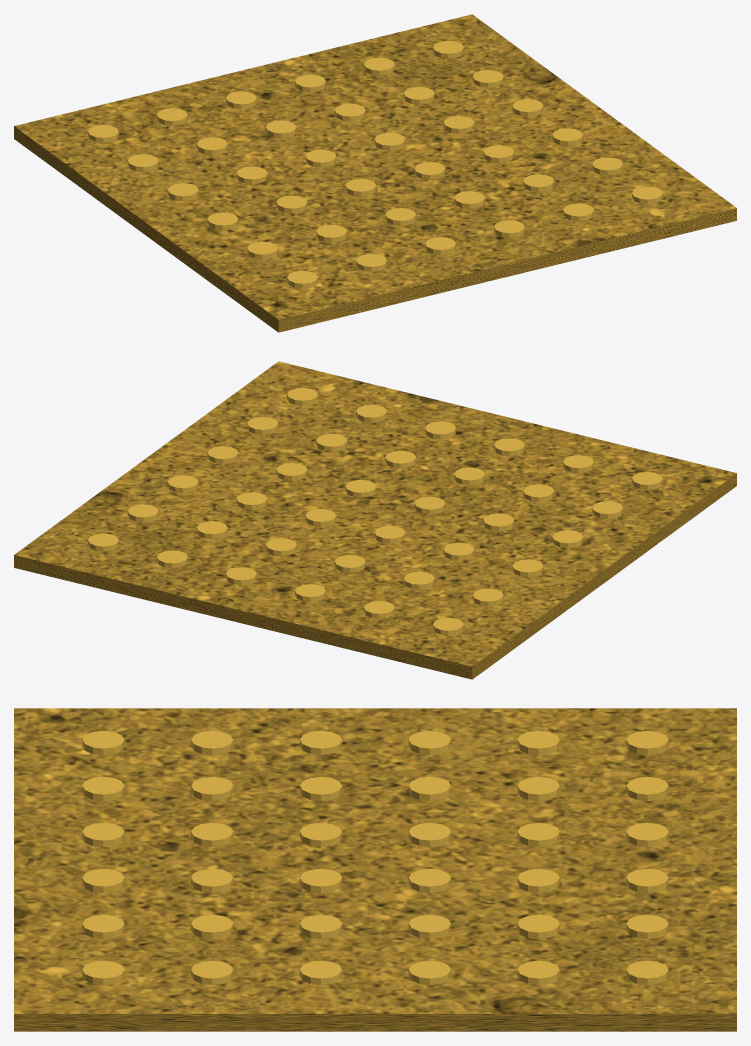
Rendered from tactile-paver.glb.
3 views of the same model, one above another, from view 1: azimuth 30°, elevation 25°; view 2: azimuth 150°, elevation 25°; view 3: azimuth 270°, elevation 25° (orthographic). The views are drawn at different scales.
Parts seen in each view (by area): view 1: tactile-paver.001; view 2: tactile-paver.001; view 3: tactile-paver.001.
Boxes of the visible parts, left/top/right/bottom form: tactile-paver.001: left=14, top=14, right=736, bottom=332; tactile-paver.001: left=14, top=361, right=736, bottom=679; tactile-paver.001: left=14, top=708, right=736, bottom=1031.
Size of the model in its own units: 0.598 by 0.022 by 0.598.
Materials: 2 (1 with a texture image).
